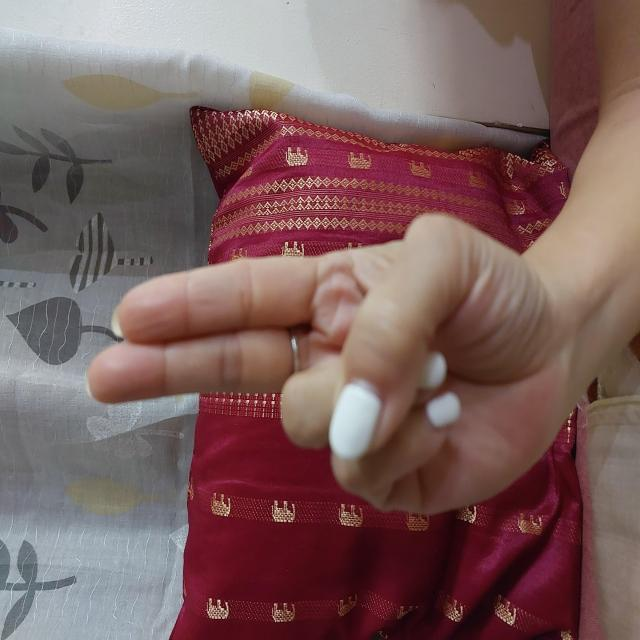U: (122, 83, 433, 568)
